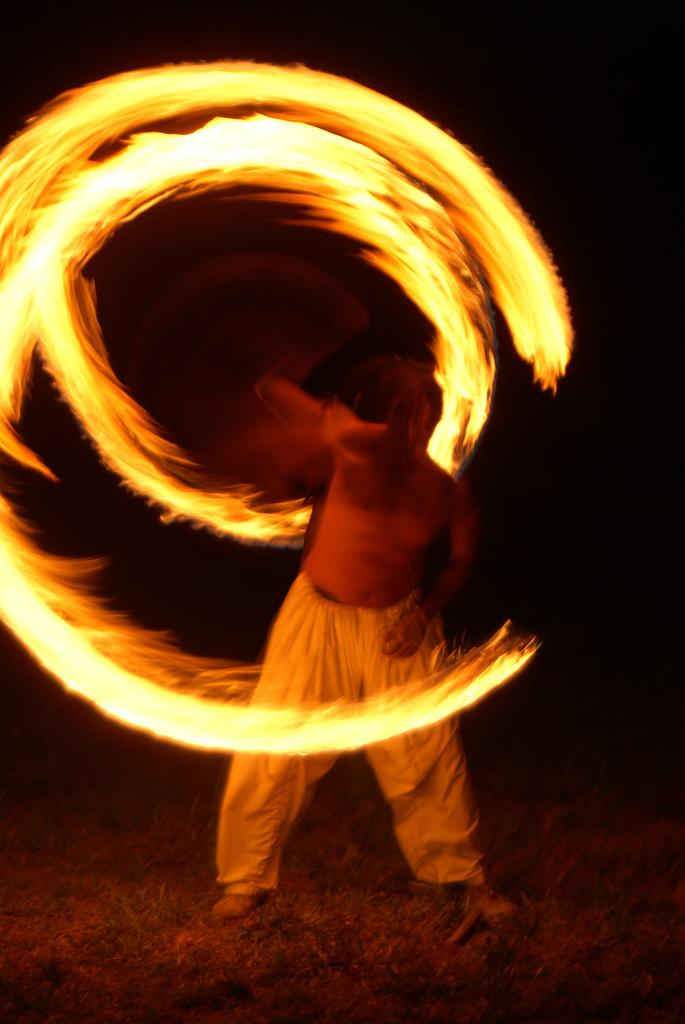fire: (127, 75, 430, 200), (402, 200, 558, 388), (135, 670, 450, 738), (0, 158, 105, 302)
